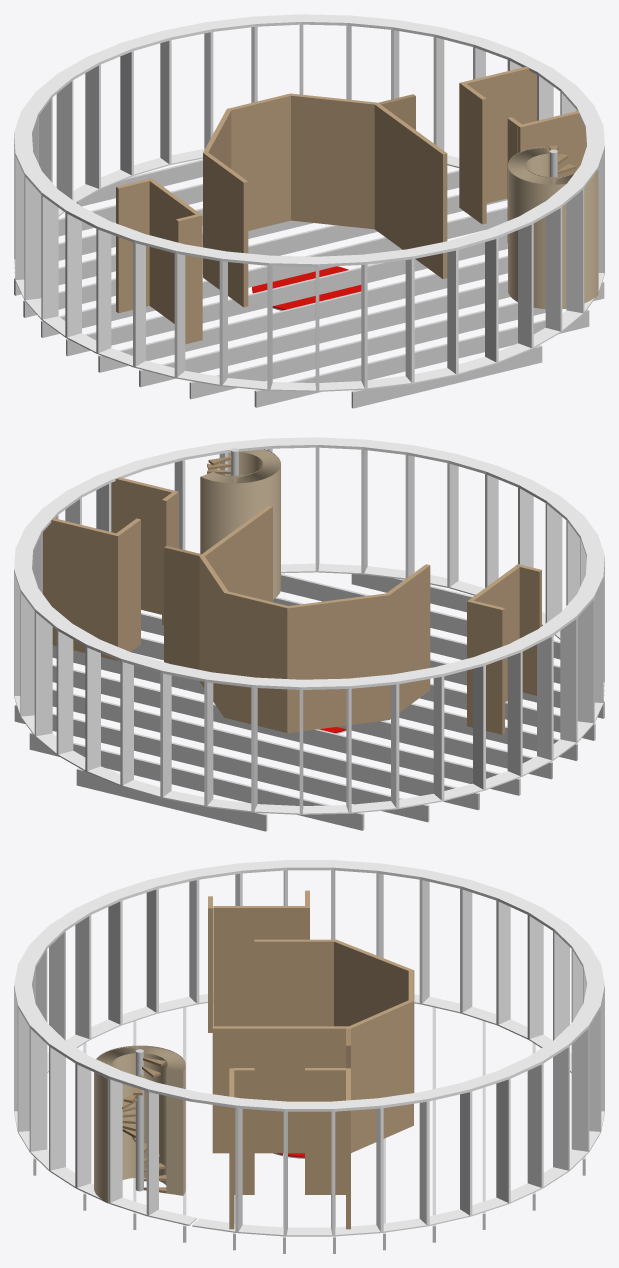
The model's file is casa_structura2.glb.
3 views of the same model, one above another, from view 1: azimuth 30°, elevation 25°; view 2: azimuth 150°, elevation 25°; view 3: azimuth 270°, elevation 25° (orthographic).
Visible parts, largest first — view 1: Cube.003, Cube.004, Strohballenwand, Cube, R06_Bodenstiel_P_005.001, R06_Bodenstiel_P_004.001, Cube.001, R06_Bodenstiel_P_003.001, Cube.009, R06_Bodenstiel_P_006.001, R06_Bodenstiel_P_002.001, R06_Bodenstiel_P_007.001 (+46 smaller); view 2: Cube.002, Cube.009, Cube, Strohballenwand, R06_Bodenstiel_P_009.001, R06_Bodenstiel_P_008.001, R06_Bodenstiel_P_010.001, Cube.001, Cube.012, Cube.004, Abstellraum, R06_Bodenstiel_P_011.001 (+47 smaller); view 3: Cube.004, Strohballenwand, Cube.003, Cube.001, Cube.007, Cube.002, Cube.010, Wandstiel_022, Wandstiel_037, Wandstiel_024, Wandstiel_035, Wandstiel_005 (+37 smaller).
Part boxes in pixels (bbox=[...]): Cube.003: bbox=[291, 93, 378, 229]; Cube.004: bbox=[374, 103, 447, 278]; Strohballenwand: bbox=[508, 146, 598, 309]; Cube: bbox=[227, 93, 292, 230]; R06_Bodenstiel_P_005.001: bbox=[98, 255, 507, 372]; R06_Bodenstiel_P_004.001: bbox=[139, 280, 510, 387]; Cube.001: bbox=[203, 152, 248, 307]; R06_Bodenstiel_P_003.001: bbox=[189, 281, 604, 399]; Cube.009: bbox=[459, 66, 536, 209]; R06_Bodenstiel_P_006.001: bbox=[66, 234, 507, 356]; R06_Bodenstiel_P_002.001: bbox=[254, 309, 589, 407]; R06_Bodenstiel_P_007.001: bbox=[41, 207, 507, 337]; Cube.002: bbox=[287, 593, 389, 733]; Cube.009: bbox=[43, 518, 120, 660]; Cube: bbox=[223, 591, 289, 732]; Strohballenwand: bbox=[200, 449, 280, 599]; R06_Bodenstiel_P_009.001: bbox=[52, 689, 479, 810]; R06_Bodenstiel_P_008.001: bbox=[52, 664, 520, 795]; R06_Bodenstiel_P_010.001: bbox=[14, 704, 429, 822]; Cube.001: bbox=[386, 564, 430, 719]; Cube.012: bbox=[111, 477, 178, 614]; Cube.004: bbox=[200, 505, 272, 602]; Abstellraum: bbox=[164, 545, 201, 669]; R06_Bodenstiel_P_011.001: bbox=[29, 732, 364, 830]; Cube.004: bbox=[212, 1026, 350, 1153]; Strohballenwand: bbox=[94, 1045, 185, 1203]; Cube.003: bbox=[348, 1000, 413, 1152]; Cube.001: bbox=[254, 939, 335, 1026]; Cube.007: bbox=[213, 906, 304, 1026]; Cube.002: bbox=[334, 939, 414, 1092]; Cube.010: bbox=[305, 1068, 345, 1194]; Wandstiel_022: bbox=[29, 1028, 47, 1152]; Wandstiel_037: bbox=[571, 1028, 589, 1152]; Wandstiel_024: bbox=[75, 1063, 91, 1188]; Wandstiel_035: bbox=[527, 1063, 543, 1188]; Wandstiel_005: bbox=[527, 915, 543, 1040].
Bounding box in the file's own units: 11.57 × 3.49 × 11.6.
